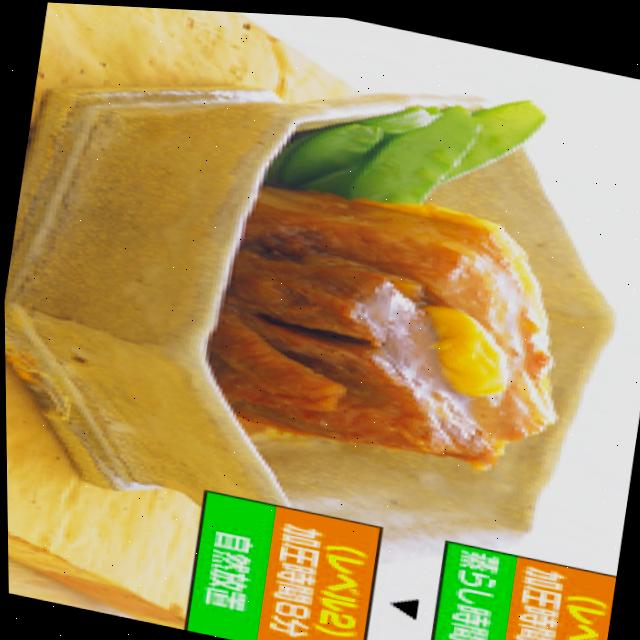猪肉菜式: (0, 0, 640, 556)
